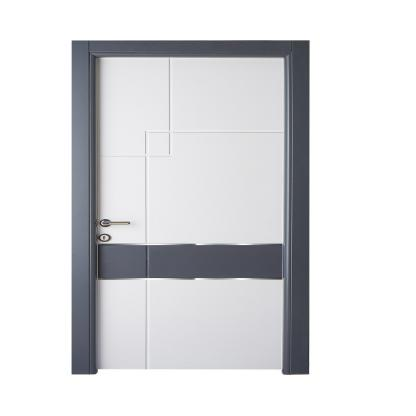door: (96, 57, 281, 371)
